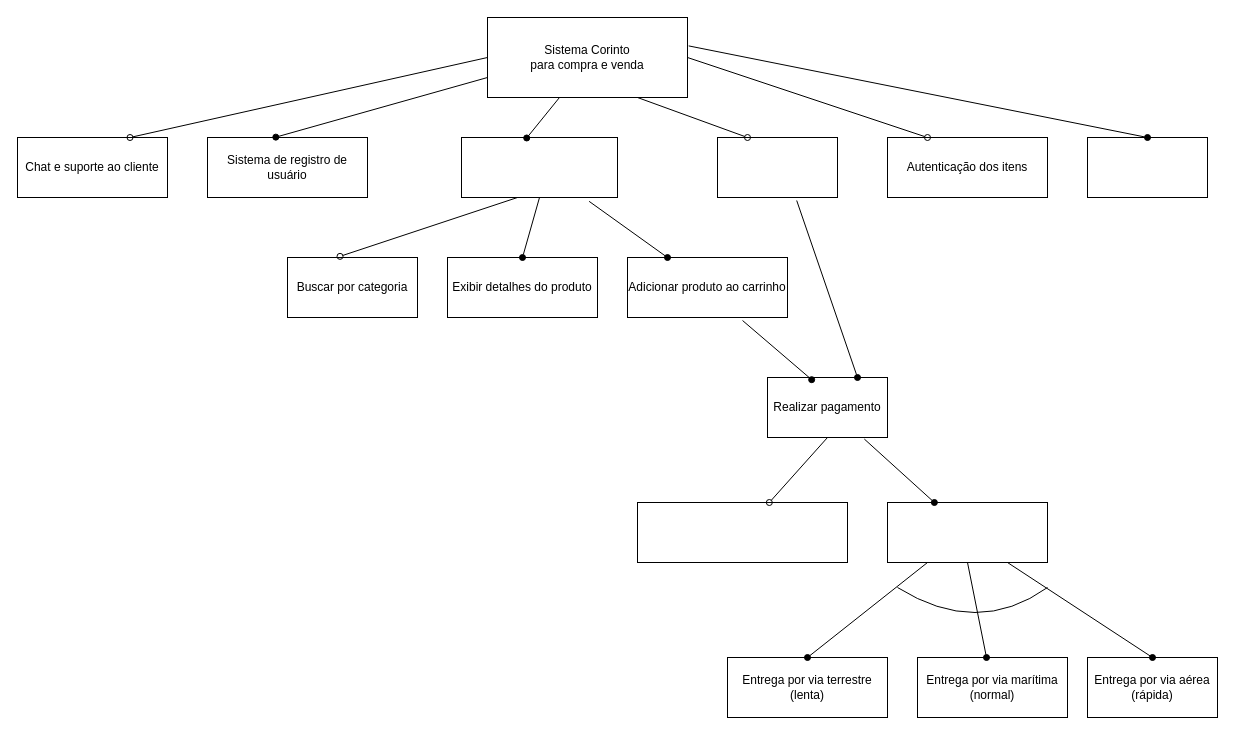
Some shapes in this 1235 by 735 pixel diagram are drawn without their labels. Each missing label, with the box of its shape:
Avaliação e comentários dos produtos: (636, 502, 848, 562)
Cadastrar produtos: (1086, 136, 1208, 198)
Exibir catálogo de produtos: (460, 136, 618, 198)
Participar de leilão: (716, 136, 838, 198)
Sistema de transporte: (886, 502, 1048, 562)
